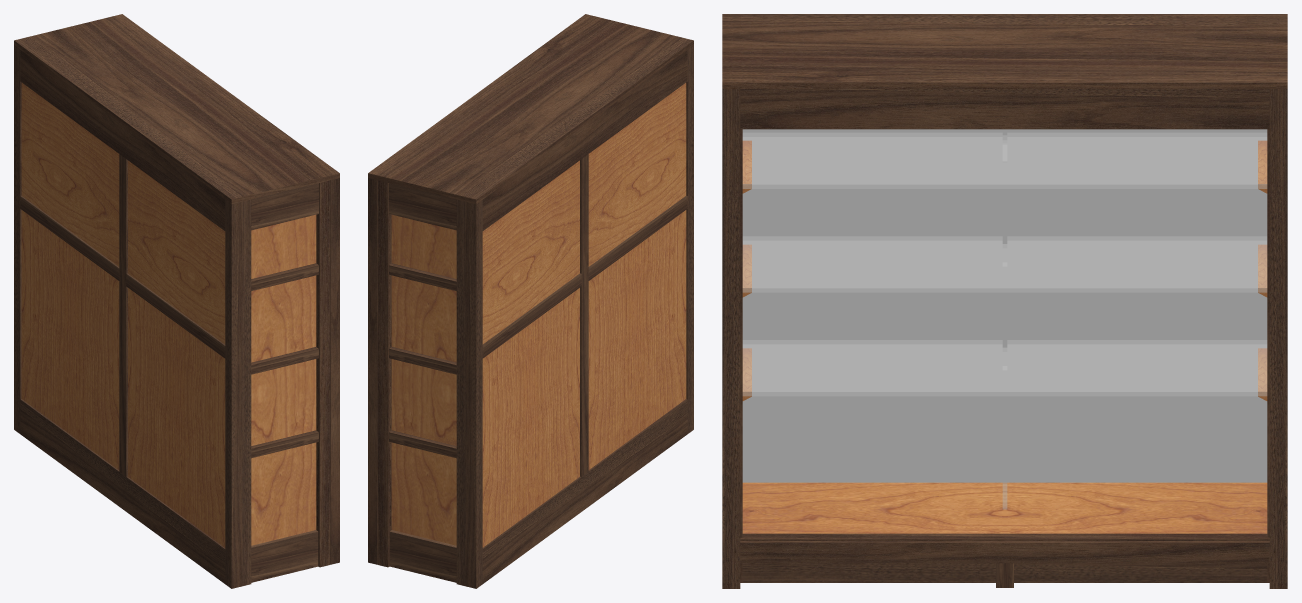
Rendered from john.glb.
The picture shows the model from 3 angles, left to right: view 1: azimuth 30°, elevation 25°; view 2: azimuth 150°, elevation 25°; view 3: azimuth 270°, elevation 25°; orthographic projection. The views are drawn at different scales.
Parts seen in each view (by area): view 1: box; view 2: box; view 3: box.
Boxes of the visible parts, x1,y1,x2,y2 form: box: (14, 14, 339, 588); box: (368, 14, 693, 588); box: (722, 14, 1287, 588).
Size of the model in its own units: 0.4524 by 1.56 by 1.57.
Materials: 6 (3 with a texture image).
